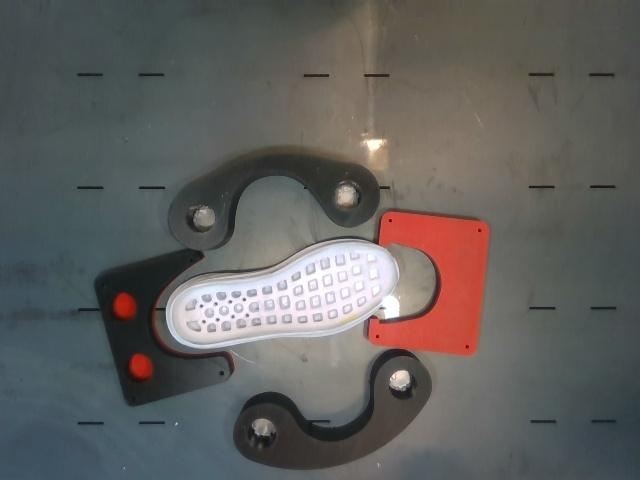shoes: (170, 242, 398, 345)
